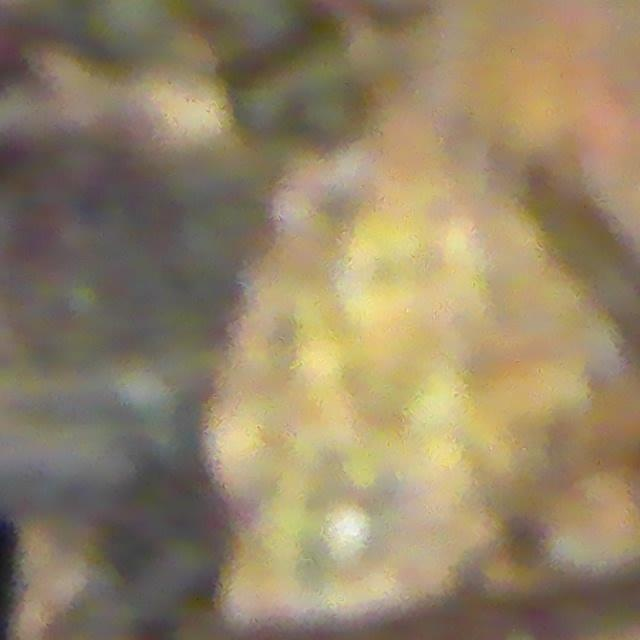SeaGrape: (88, 0, 180, 72)
